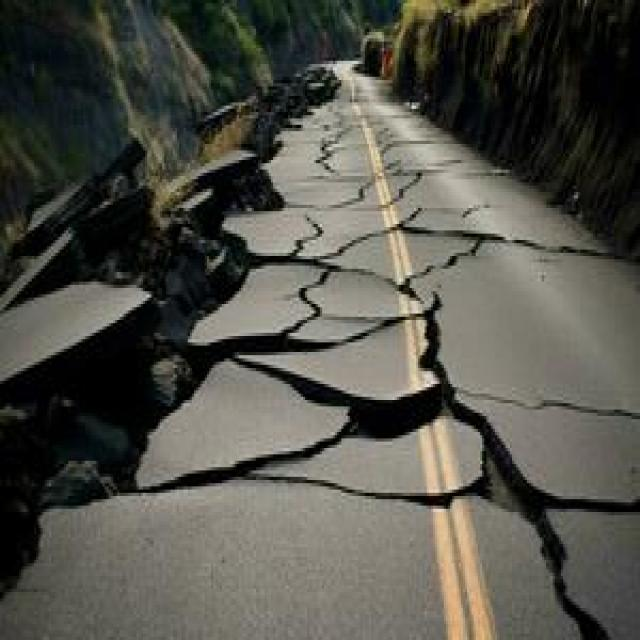road collapse: (72, 3, 640, 640)
